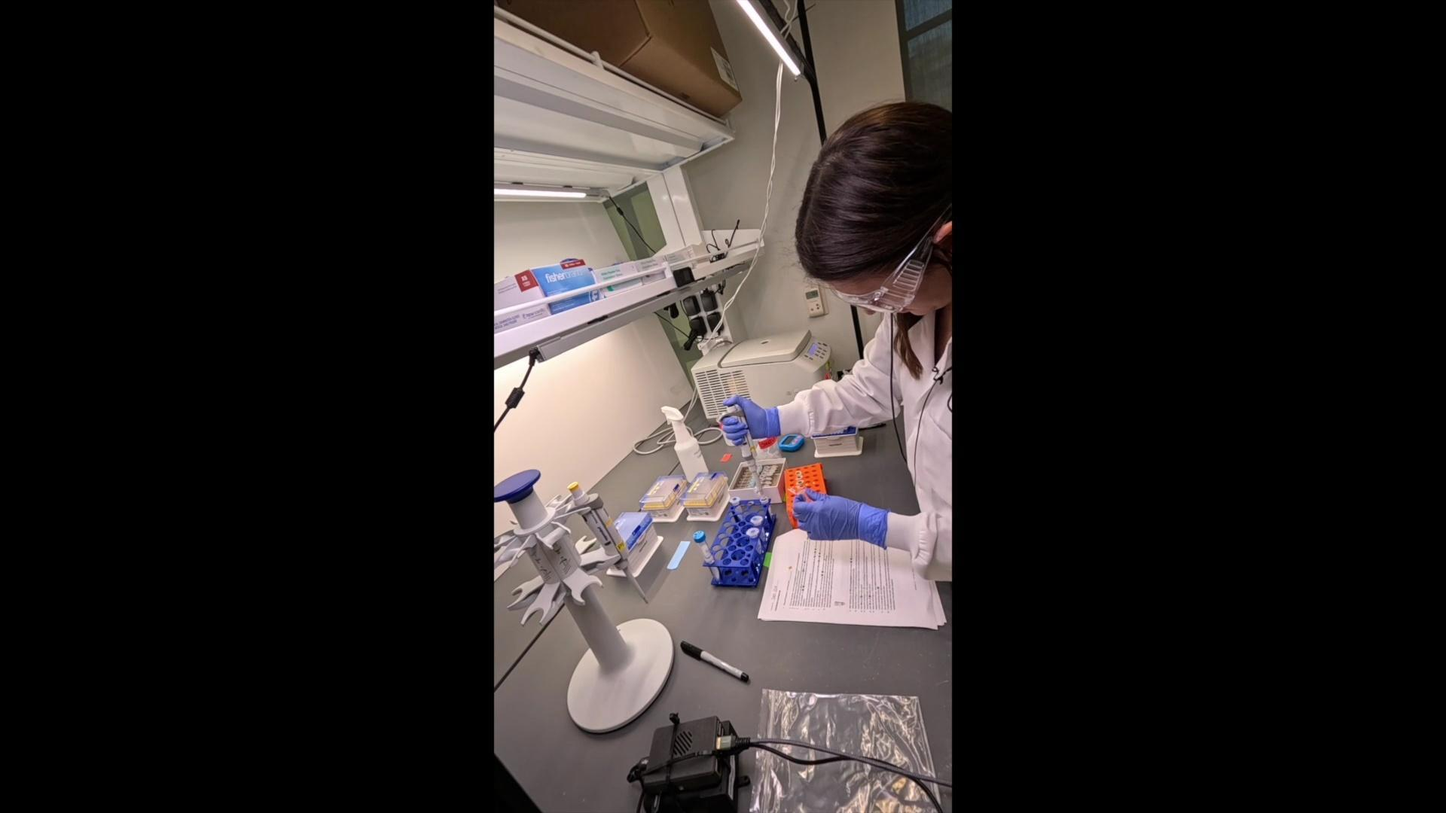pipette: (717, 405, 763, 496)
